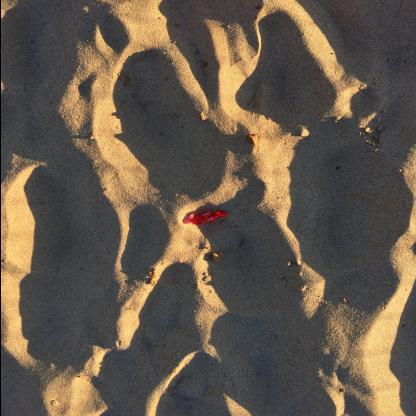plastik: (192, 212, 227, 226)
